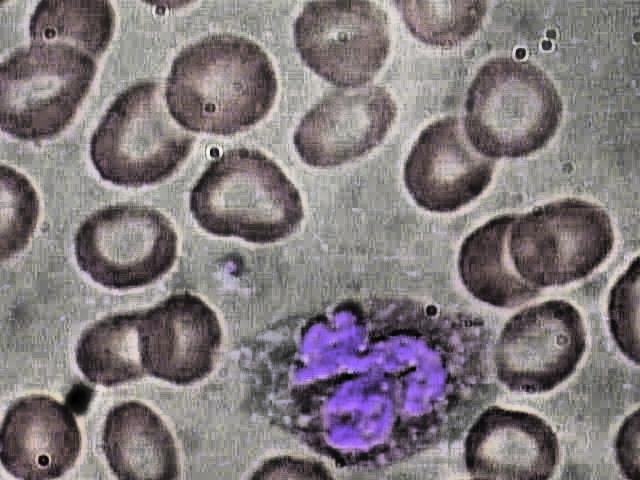RBC: (83, 72, 210, 192), (183, 139, 310, 258), (160, 28, 279, 139), (66, 191, 185, 302), (286, 74, 403, 183), (0, 40, 107, 153), (394, 111, 503, 221), (504, 195, 615, 298), (287, 0, 404, 97), (485, 300, 597, 399), (460, 58, 564, 161), (461, 398, 569, 479), (133, 293, 225, 384), (71, 302, 163, 393), (0, 389, 92, 479), (94, 393, 187, 479)
WBC: (240, 284, 497, 469)
